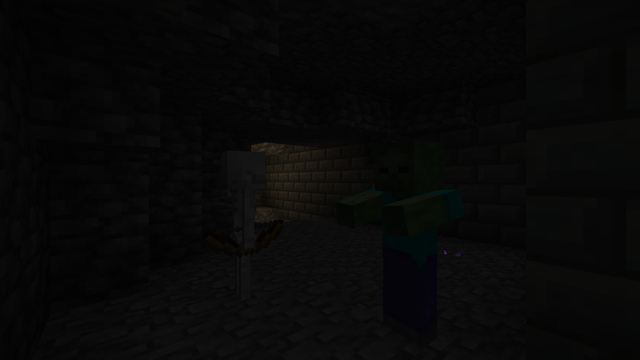squelettes: (213, 150, 271, 308)
zombies: (368, 143, 449, 357)
